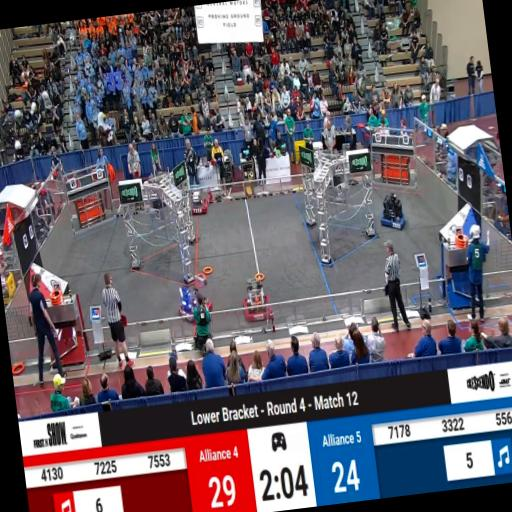robot: (177, 282, 214, 324), (242, 278, 274, 320), (378, 192, 407, 231), (190, 189, 212, 214)
